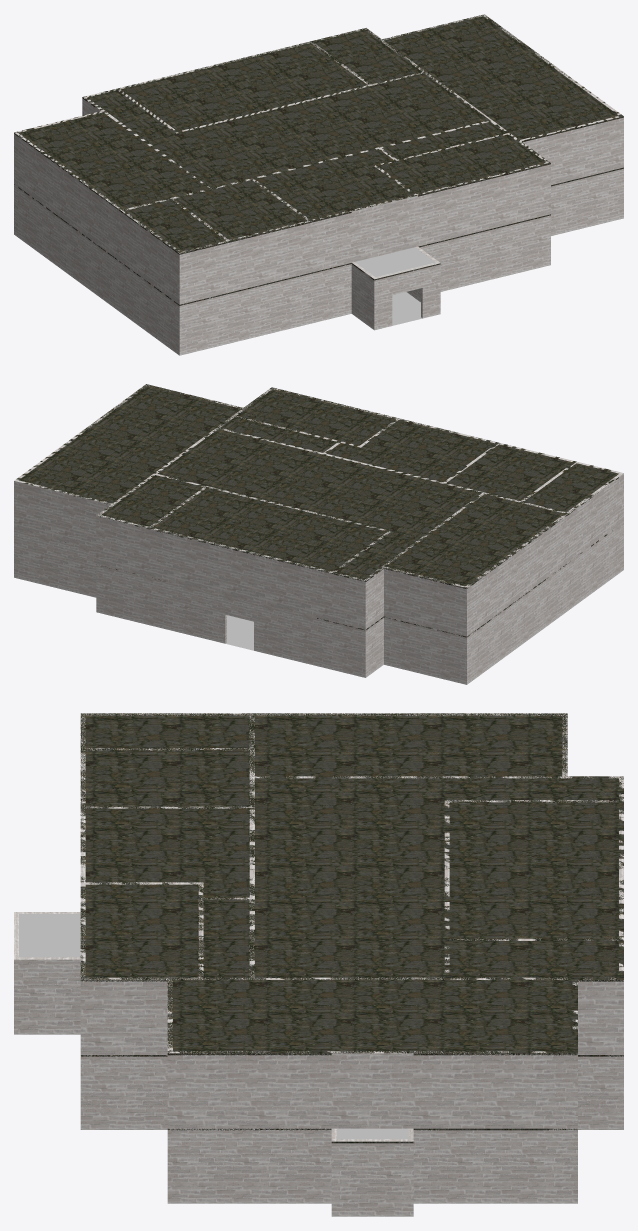
The model's file is MansionV3.fbx.
3 renders of one model, top to bottom at view 1: azimuth 30°, elevation 25°; view 2: azimuth 150°, elevation 25°; view 3: azimuth 270°, elevation 25°, orthographic. The views are drawn at different scales.
Parts seen in each view (by area): view 1: 2nd Ceiling, 2nd Walls, 1st Walls, 2nd Floor, 1st Ceiling, 1st Floor; view 2: 2nd Ceiling, 2nd Walls, 1st Walls, 1st Floor; view 3: 2nd Ceiling, 2nd Walls, 1st Walls, 2nd Floor, 1st Ceiling.
Boxes of the visible parts, x1=… form: 2nd Ceiling: x1=14, y1=14, x2=623, y2=254; 2nd Walls: x1=14, y1=14, x2=623, y2=304; 1st Walls: x1=14, y1=167, x2=623, y2=355; 2nd Floor: x1=355, y1=247, x2=435, y2=277; 1st Ceiling: x1=14, y1=167, x2=623, y2=305; 1st Floor: x1=392, y1=292, x2=422, y2=325; 2nd Ceiling: x1=16, y1=384, x2=618, y2=588; 2nd Walls: x1=14, y1=385, x2=623, y2=636; 1st Walls: x1=14, y1=522, x2=623, y2=684; 1st Floor: x1=225, y1=615, x2=253, y2=650; 2nd Ceiling: x1=80, y1=713, x2=623, y2=1055; 2nd Walls: x1=80, y1=713, x2=623, y2=1128; 1st Walls: x1=14, y1=912, x2=623, y2=1216; 2nd Floor: x1=19, y1=914, x2=408, y2=1139; 1st Ceiling: x1=81, y1=1055, x2=623, y2=1143.
Size of the model in its own units: 4035 by 800 by 2946.
